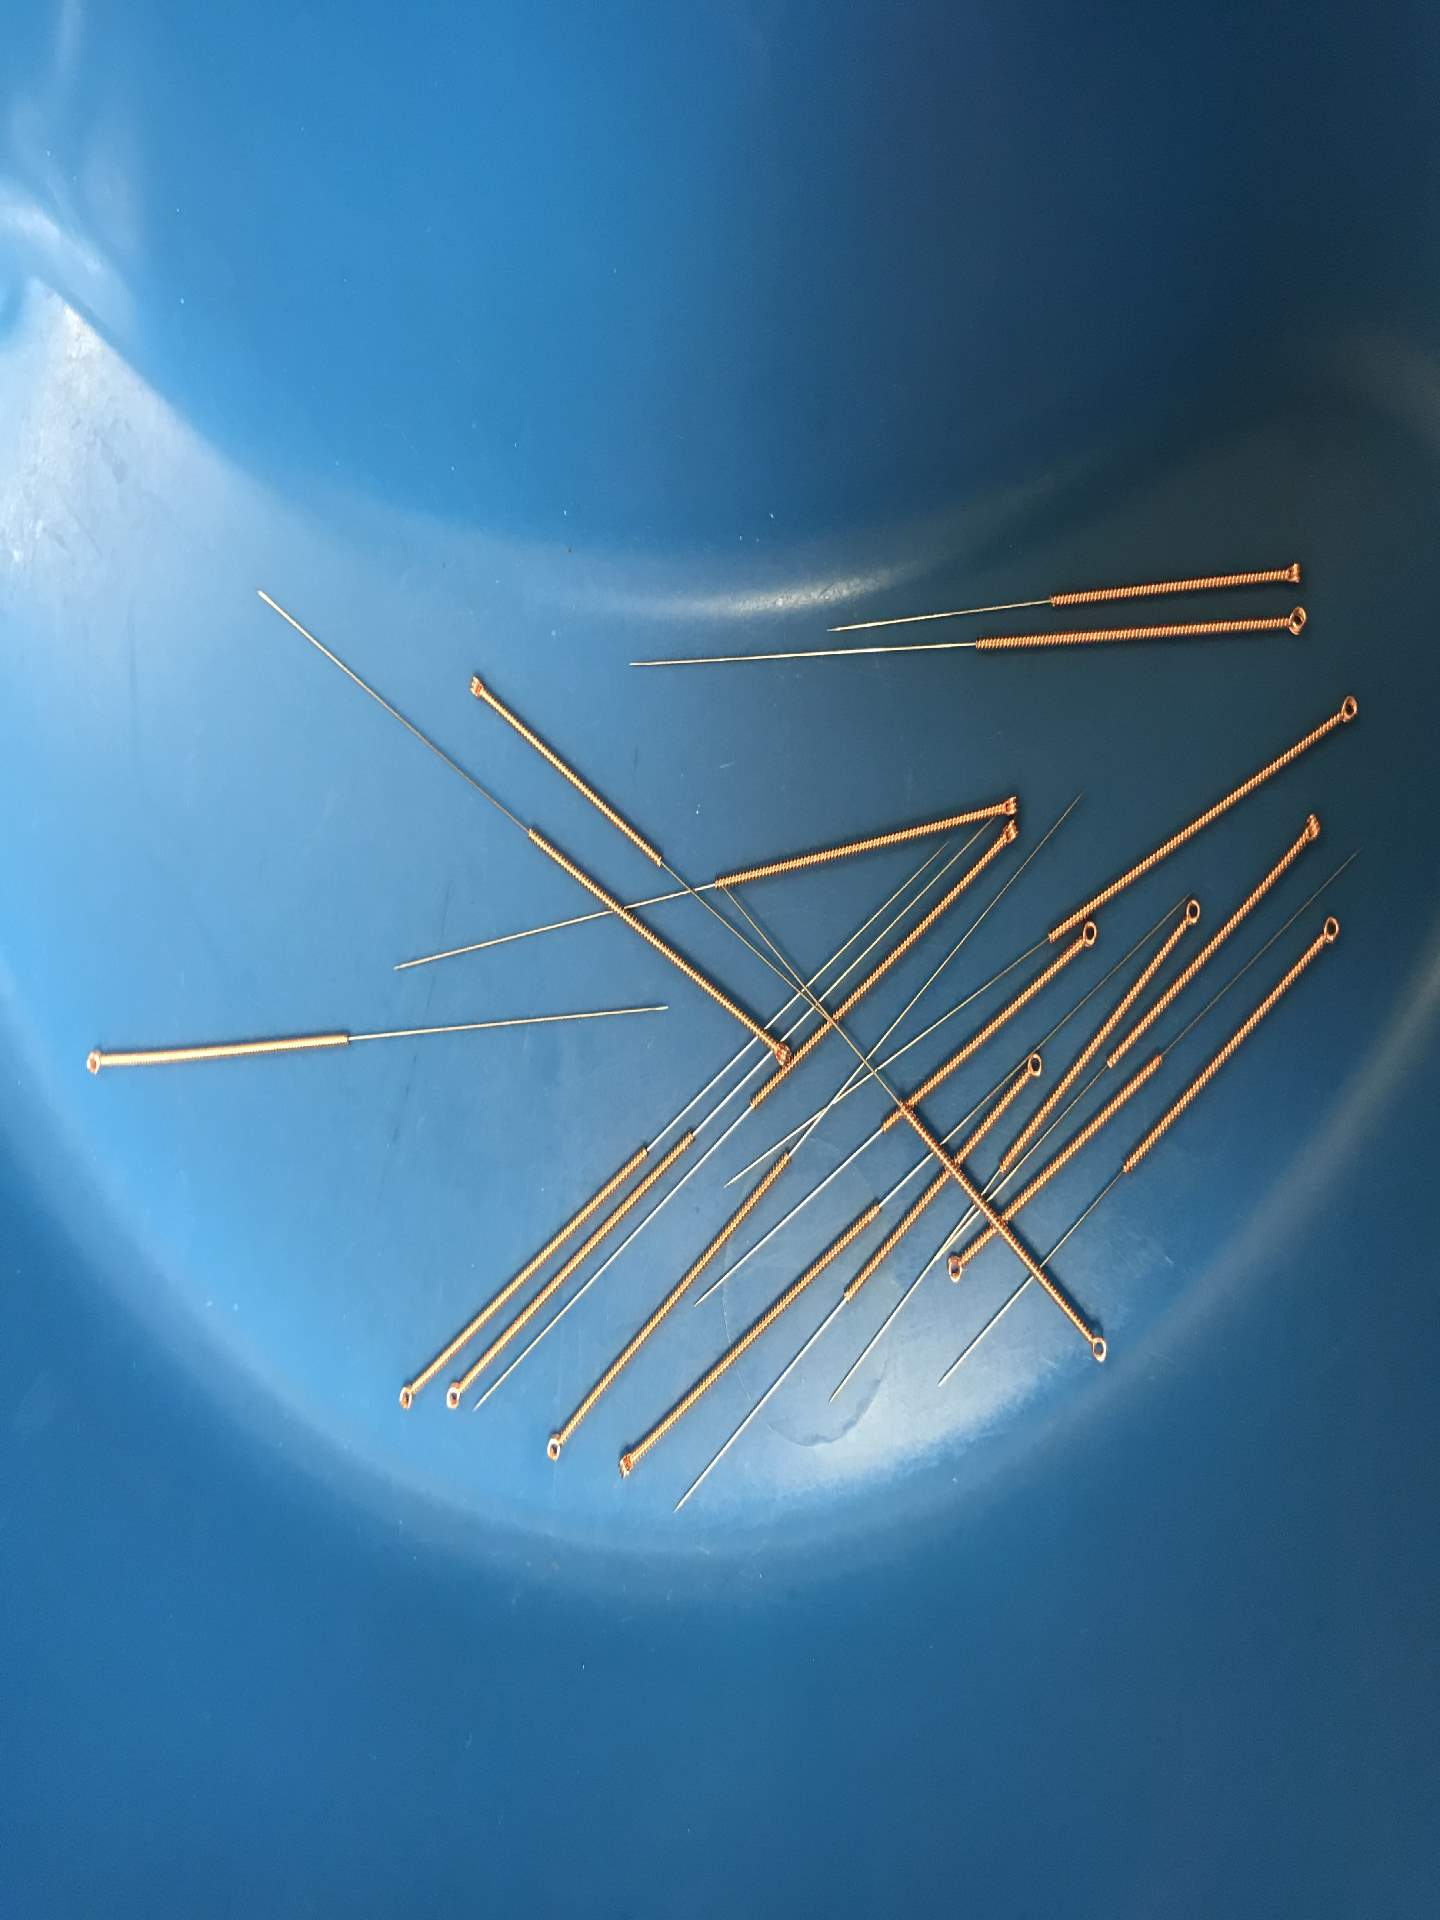needle: (1082, 1326, 1115, 1373), (1278, 602, 1314, 643), (1293, 806, 1327, 850), (1274, 552, 1308, 593), (939, 1247, 973, 1290), (1016, 1049, 1051, 1089), (1330, 689, 1363, 729), (460, 667, 493, 706), (1314, 910, 1345, 952), (79, 1043, 110, 1082), (1175, 893, 1206, 934), (390, 1376, 421, 1417), (540, 1426, 570, 1466), (611, 1444, 641, 1485), (440, 1376, 469, 1414), (1074, 918, 1103, 955), (994, 789, 1026, 819), (997, 816, 1026, 850), (765, 1036, 794, 1069)
